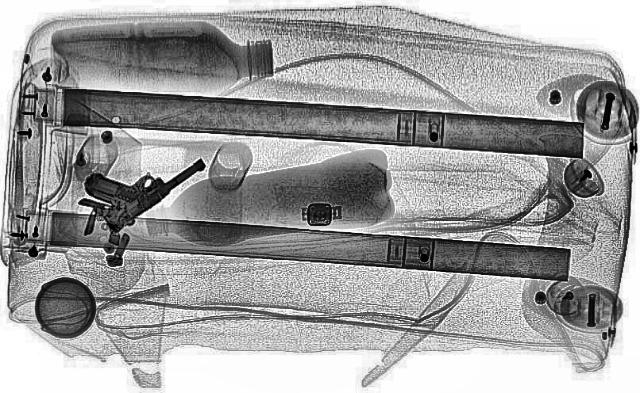Gun: (56, 140, 234, 234)
